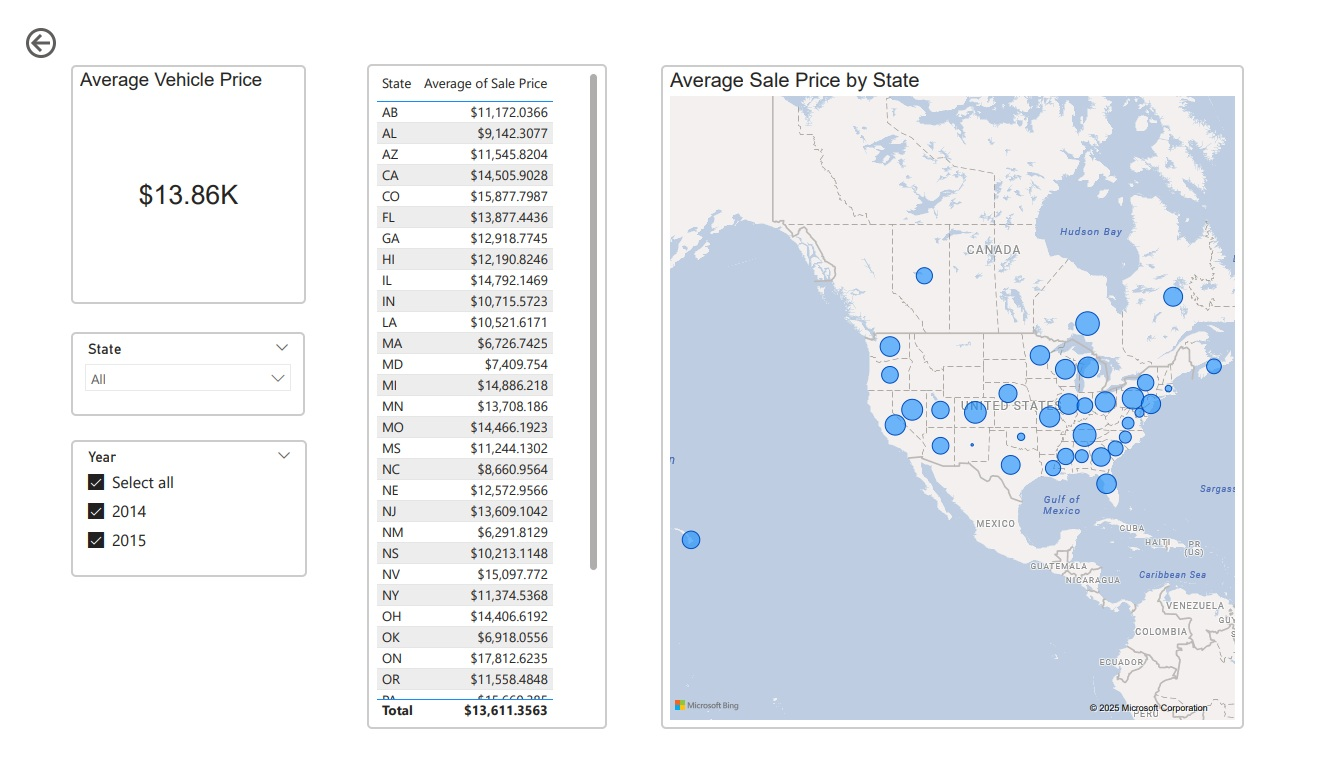

The page's visual inventory and layout, read from the dashboard file:
{"tool":"powerbi","page":{"name":"Average Vehicle Price by State","canvas":[1280,720],"ordinal":2},"visuals":[{"type":"map","fields":{"Category":["Car Sales.State"],"Size":["Avg(Car Sales.Sale Price)"]},"box":[639.5,41.6,583.3,664],"z":0},{"type":"kpi","title":"Average Vehicle Price","fields":{"TrendLine":["Car Sales.Date Year"],"Indicator":["Avg(Car Sales.Sale Price)"]},"box":[50.1,41.6,234.8,239.7],"z":1000},{"type":"tableEx","fields":{"Values":["Car Sales.State","Avg(Car Sales.Sale Price)"]},"box":[349.7,41.6,240.9,664],"z":1001},{"type":"actionButton","box":[0,0,100,40],"z":1002},{"type":"slicer","fields":{"Values":["Car Sales.State"]},"box":[50.1,317.9,234.8,84.4],"z":1003}]}

Visuals, with their boxes in screenshot pixels (x1, y1, x2, y2), scaled from the page's 1280x720 canvas onto the 1323x766 screenshot:
map - Car Sales.State x Avg(Car Sales.Sale Price): x1=661, y1=44, x2=1264, y2=751
"Average Vehicle Price" kpi: x1=52, y1=44, x2=294, y2=299
tableEx - Car Sales.State x Avg(Car Sales.Sale Price): x1=361, y1=44, x2=610, y2=751
actionButton: x1=0, y1=0, x2=103, y2=43
slicer - Car Sales.State: x1=52, y1=338, x2=294, y2=428
